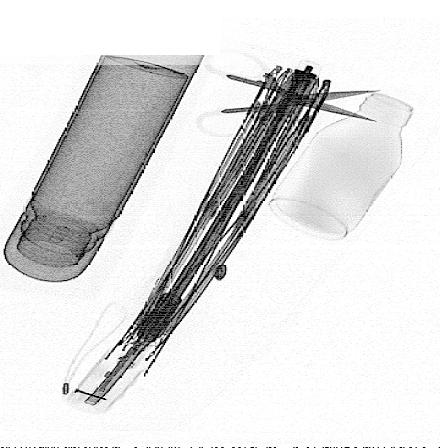Scissors: (193, 48, 386, 139)
